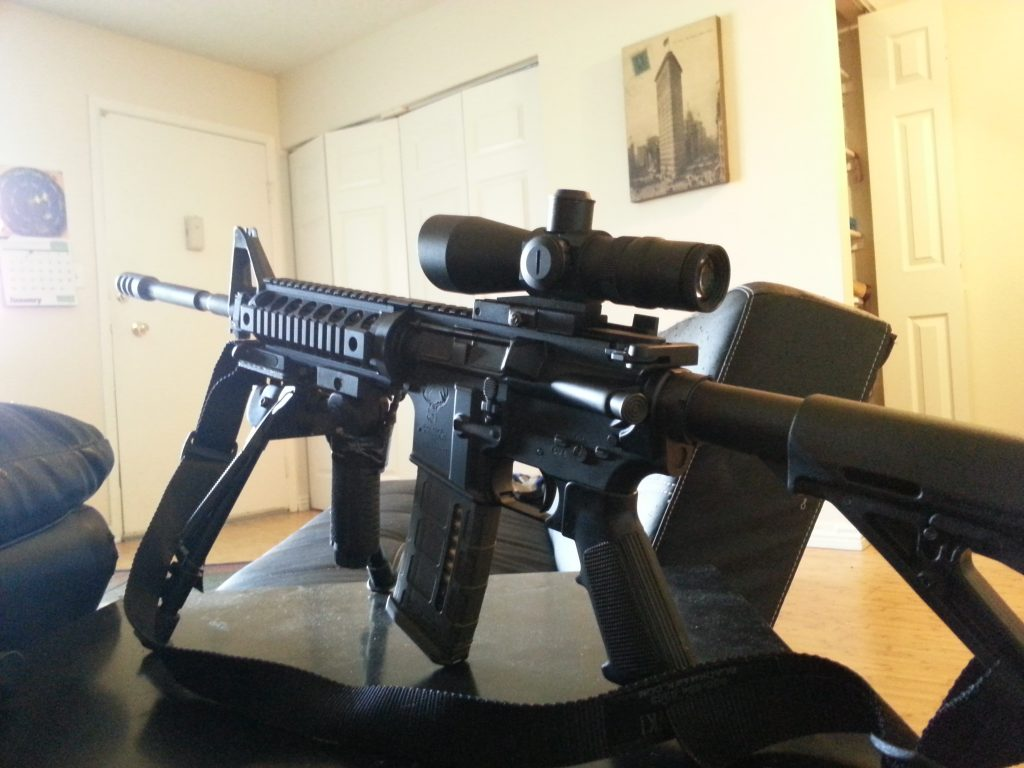Rifle: (112, 190, 1024, 691)
